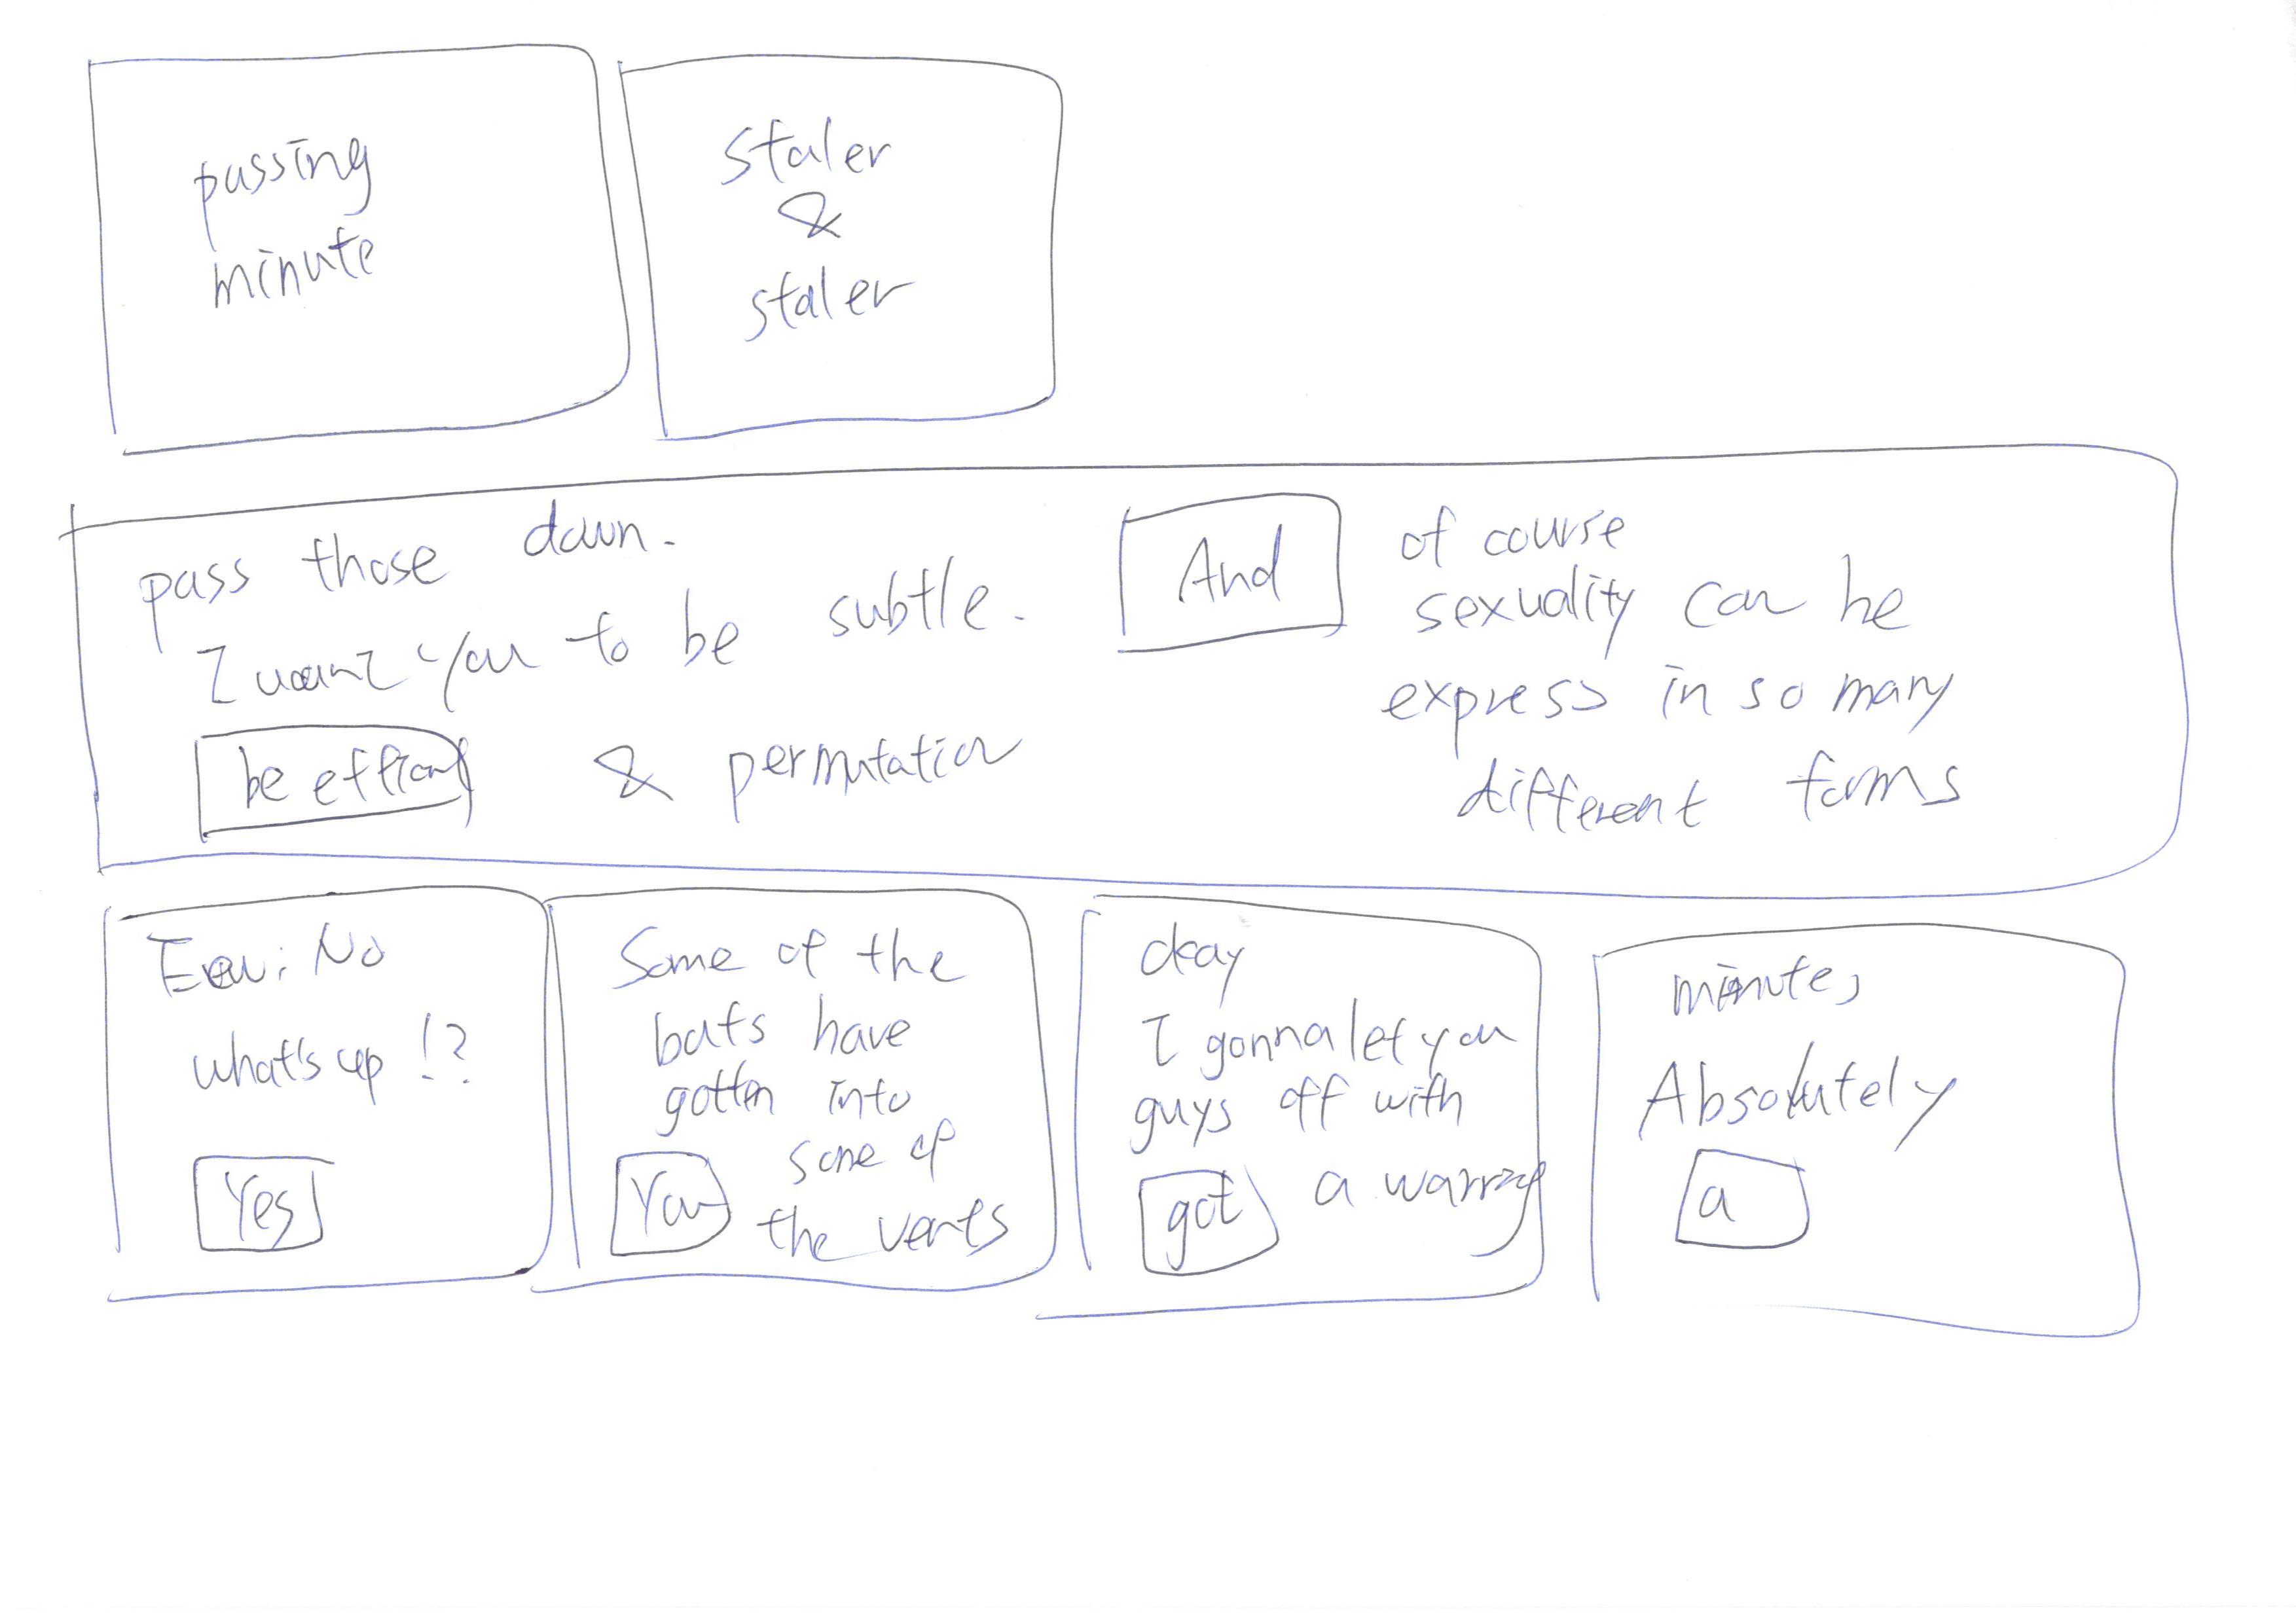btn-active: (26, 23, 658, 473), (591, 25, 1097, 459), (1072, 468, 1387, 670), (165, 705, 508, 861), (165, 1118, 369, 1276), (1102, 1142, 1290, 1287), (1654, 1127, 1841, 1271), (587, 1130, 759, 1280)
quadruple: (46, 849, 582, 1343)
row: (5, 879, 2296, 1388), (0, 439, 2289, 910), (21, 4, 2285, 431)
single: (0, 415, 2270, 923), (1563, 896, 2208, 1390), (1032, 870, 1570, 1346), (534, 866, 1072, 1341)
text: (1371, 478, 2043, 852), (97, 496, 1037, 707), (598, 914, 995, 1130), (1125, 924, 1515, 1139), (1631, 958, 1978, 1130), (580, 705, 1071, 826), (141, 921, 487, 1088), (775, 1113, 1004, 1264), (1303, 1120, 1533, 1246)
